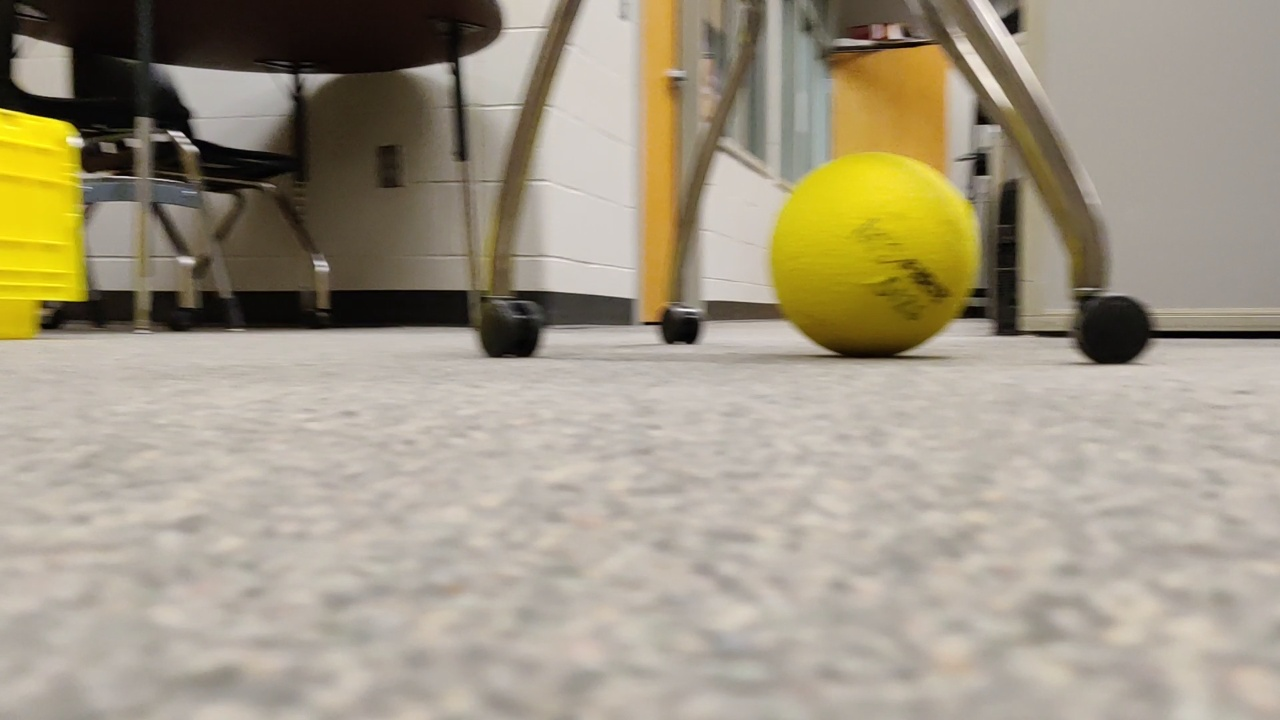Ball: (742, 136, 994, 368)
